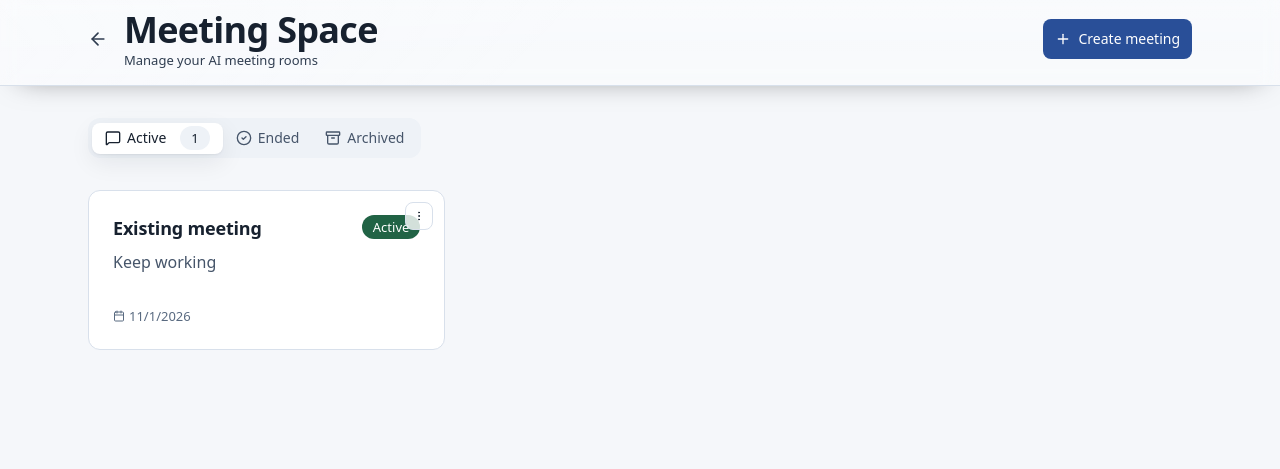
Test: meeting space reads › reports a failed archive instead of dismissing it as success
Step 1. Press the mouse on the button named "Actions for Existing meeting" → (419, 216), box [405,202,433,230]
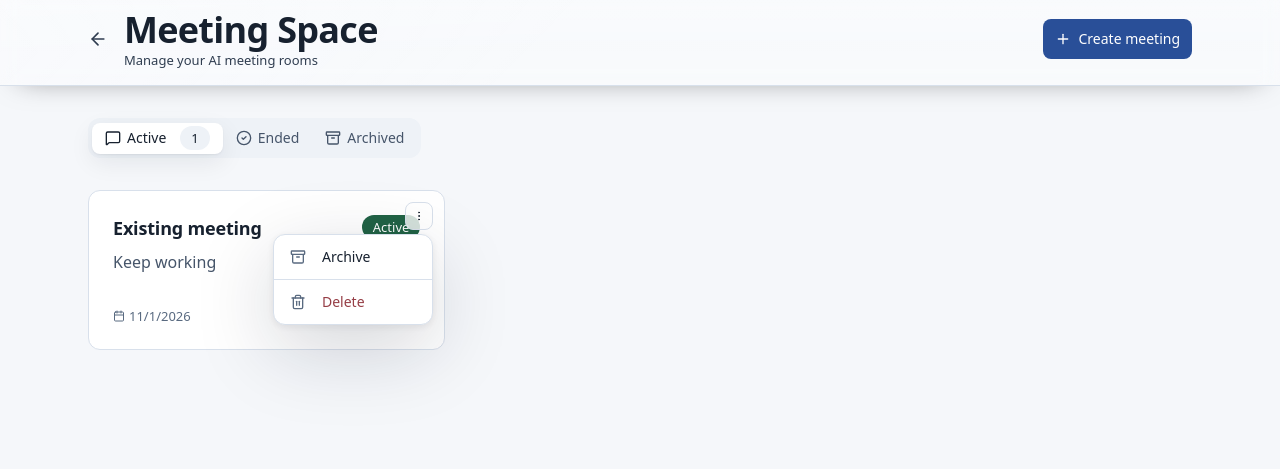
Step 2. Click the menu item "Archive" → (330, 256), box [290,247,370,266]
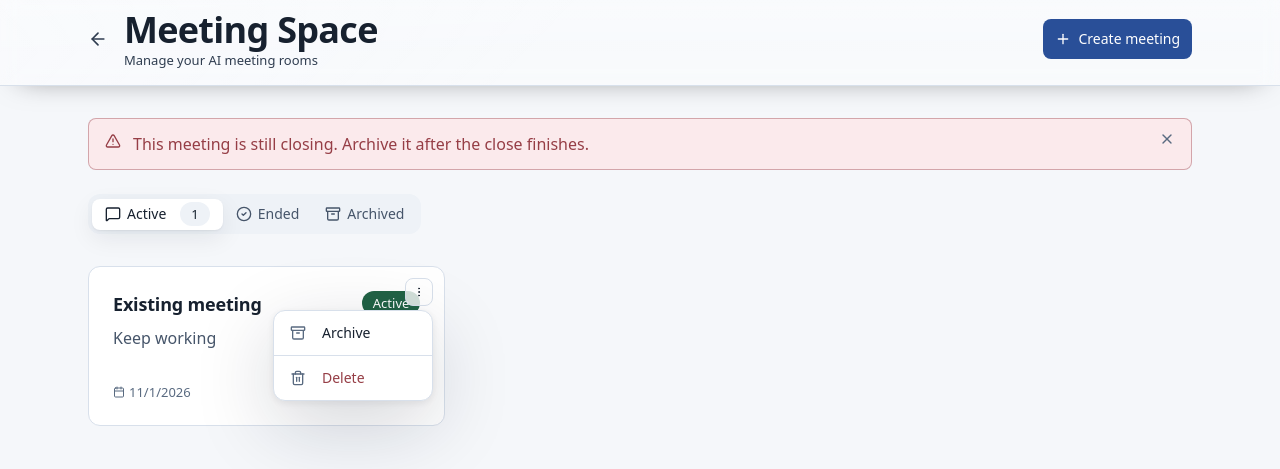
Expected: the text "Existing meeting" is shown, [113,292,262,316]
Result: the text "This meeting is still closing. Archive it after the close finishes." is shown at [133,133,589,155]
